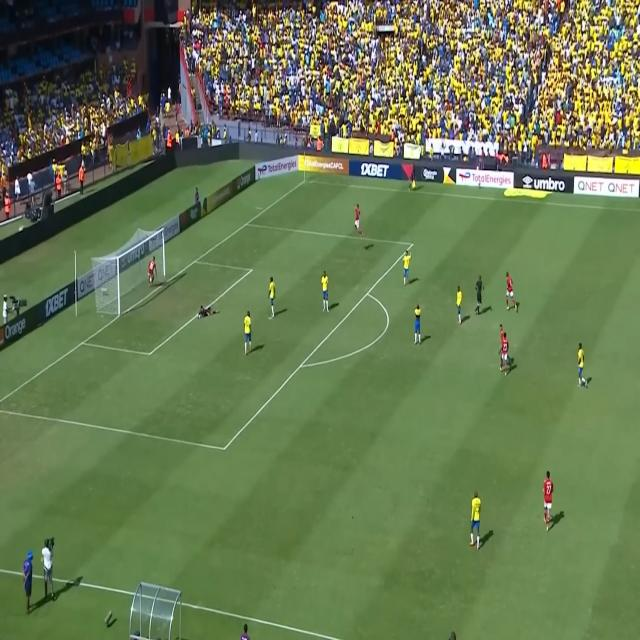Ball: (148, 274, 153, 283)
Keeper: (197, 303, 221, 318)
Player: (468, 492, 483, 550), (542, 466, 554, 534), (576, 335, 590, 392), (498, 325, 512, 364), (504, 269, 516, 314), (501, 329, 510, 379), (412, 302, 422, 346), (320, 270, 330, 312), (244, 311, 253, 357), (353, 200, 363, 238), (403, 246, 412, 288), (454, 284, 463, 326), (147, 255, 157, 288), (268, 276, 276, 317)
Ref: (474, 274, 486, 317), (409, 166, 416, 194)
